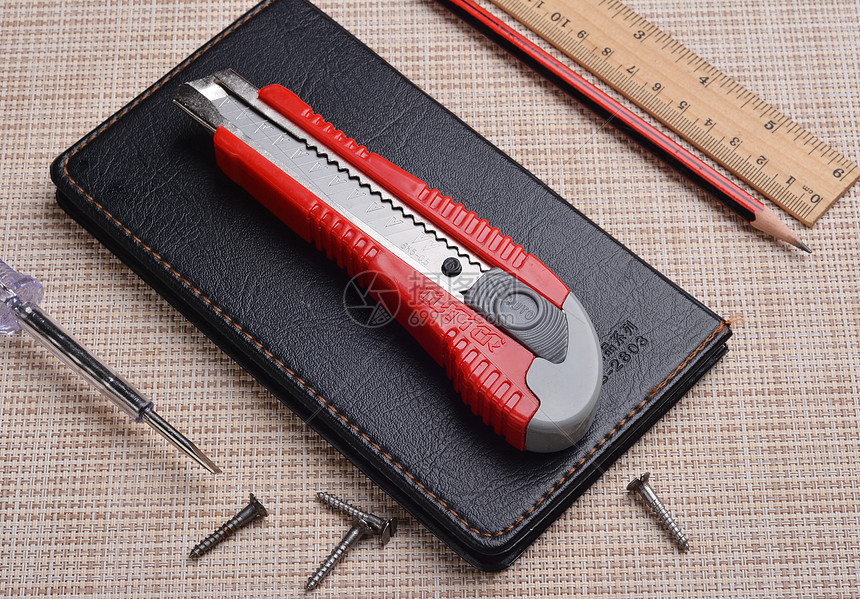cutter: (172, 67, 605, 454)
screwdriver: (1, 259, 228, 477)
